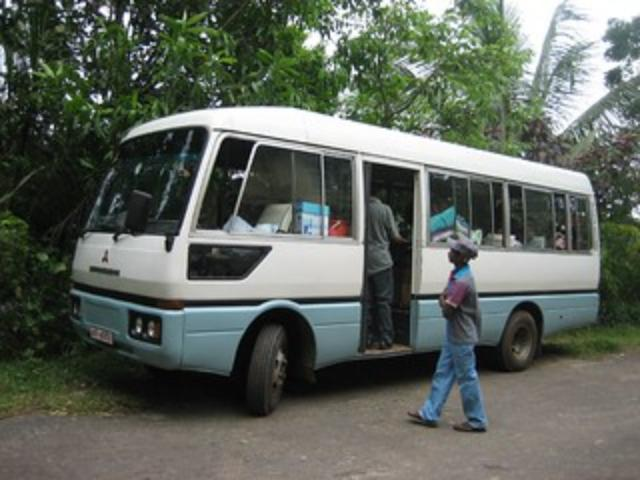bus: (68, 106, 600, 418)
